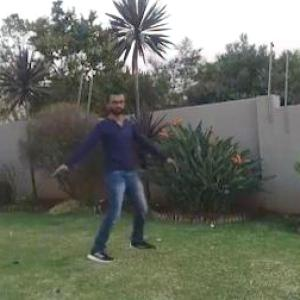land: (37, 57, 177, 287)
